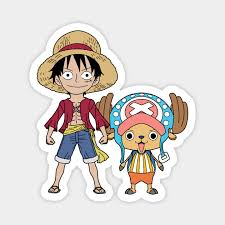chopper: (102, 92, 189, 162)
luffy: (35, 30, 119, 96)
